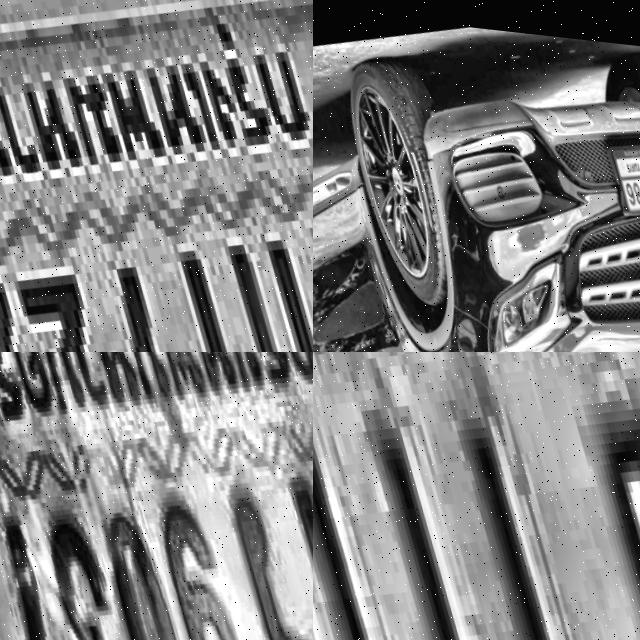license-plate: (0, 0, 313, 352), (313, 352, 640, 640), (0, 352, 313, 640), (605, 122, 640, 212)
